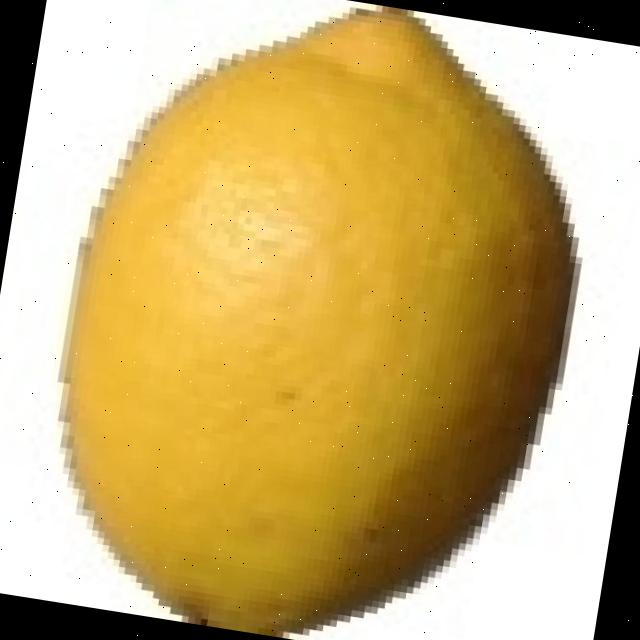lemon: (64, 6, 575, 637)
